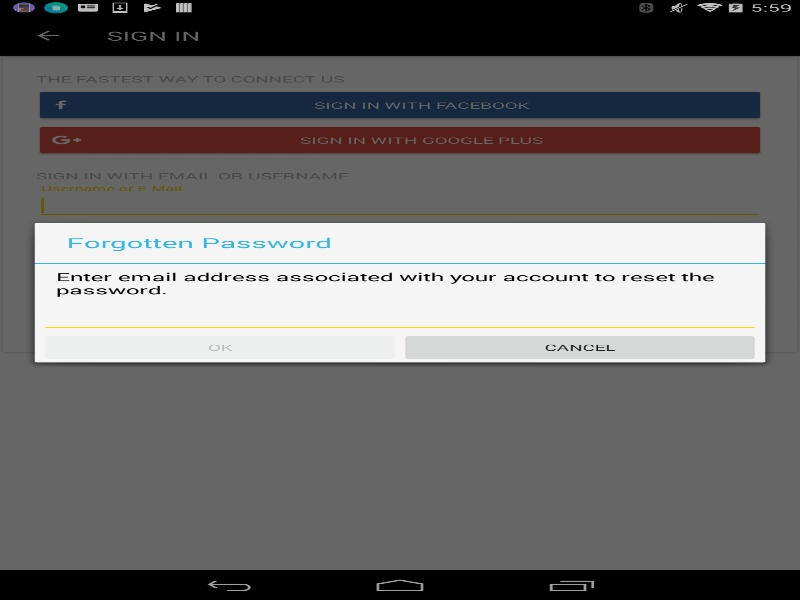Button: (40, 332, 400, 362), (400, 332, 760, 362)
Input: (40, 304, 760, 332)
